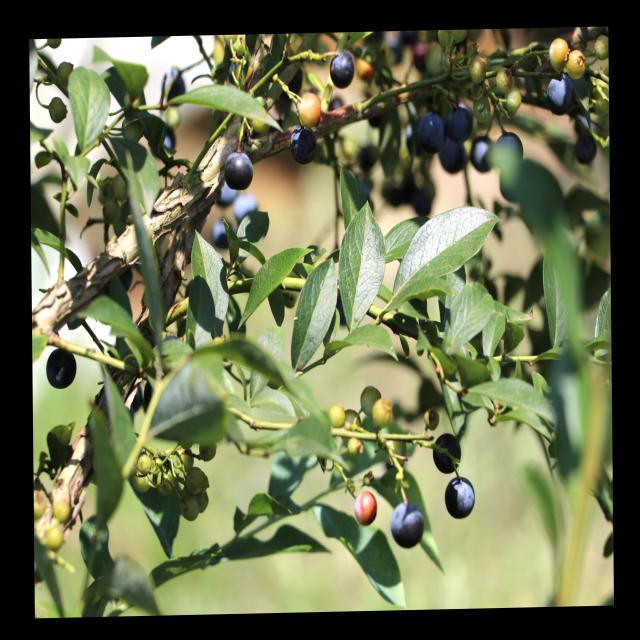blueberry: (390, 495, 428, 550), (43, 343, 79, 395), (223, 146, 256, 191), (287, 124, 321, 167), (445, 476, 475, 520), (545, 76, 576, 118), (432, 434, 462, 476), (417, 109, 445, 153), (494, 130, 524, 171), (469, 133, 498, 175), (328, 47, 356, 90), (445, 105, 473, 140), (440, 141, 464, 171)
blueberry-halfripe: (296, 89, 322, 129), (354, 490, 377, 525)
blueberry-unripe: (384, 434, 407, 468), (548, 36, 569, 72), (359, 384, 380, 418), (566, 48, 588, 78), (371, 397, 393, 427), (131, 468, 154, 493), (180, 494, 200, 522), (591, 88, 609, 118), (494, 66, 513, 94), (185, 466, 204, 494), (468, 55, 487, 82), (472, 94, 490, 122), (504, 85, 522, 112), (200, 437, 218, 463), (328, 404, 347, 428), (176, 447, 194, 472), (592, 34, 608, 61), (158, 468, 174, 493), (436, 30, 454, 48), (136, 454, 151, 474), (200, 489, 210, 513), (450, 30, 467, 44)
